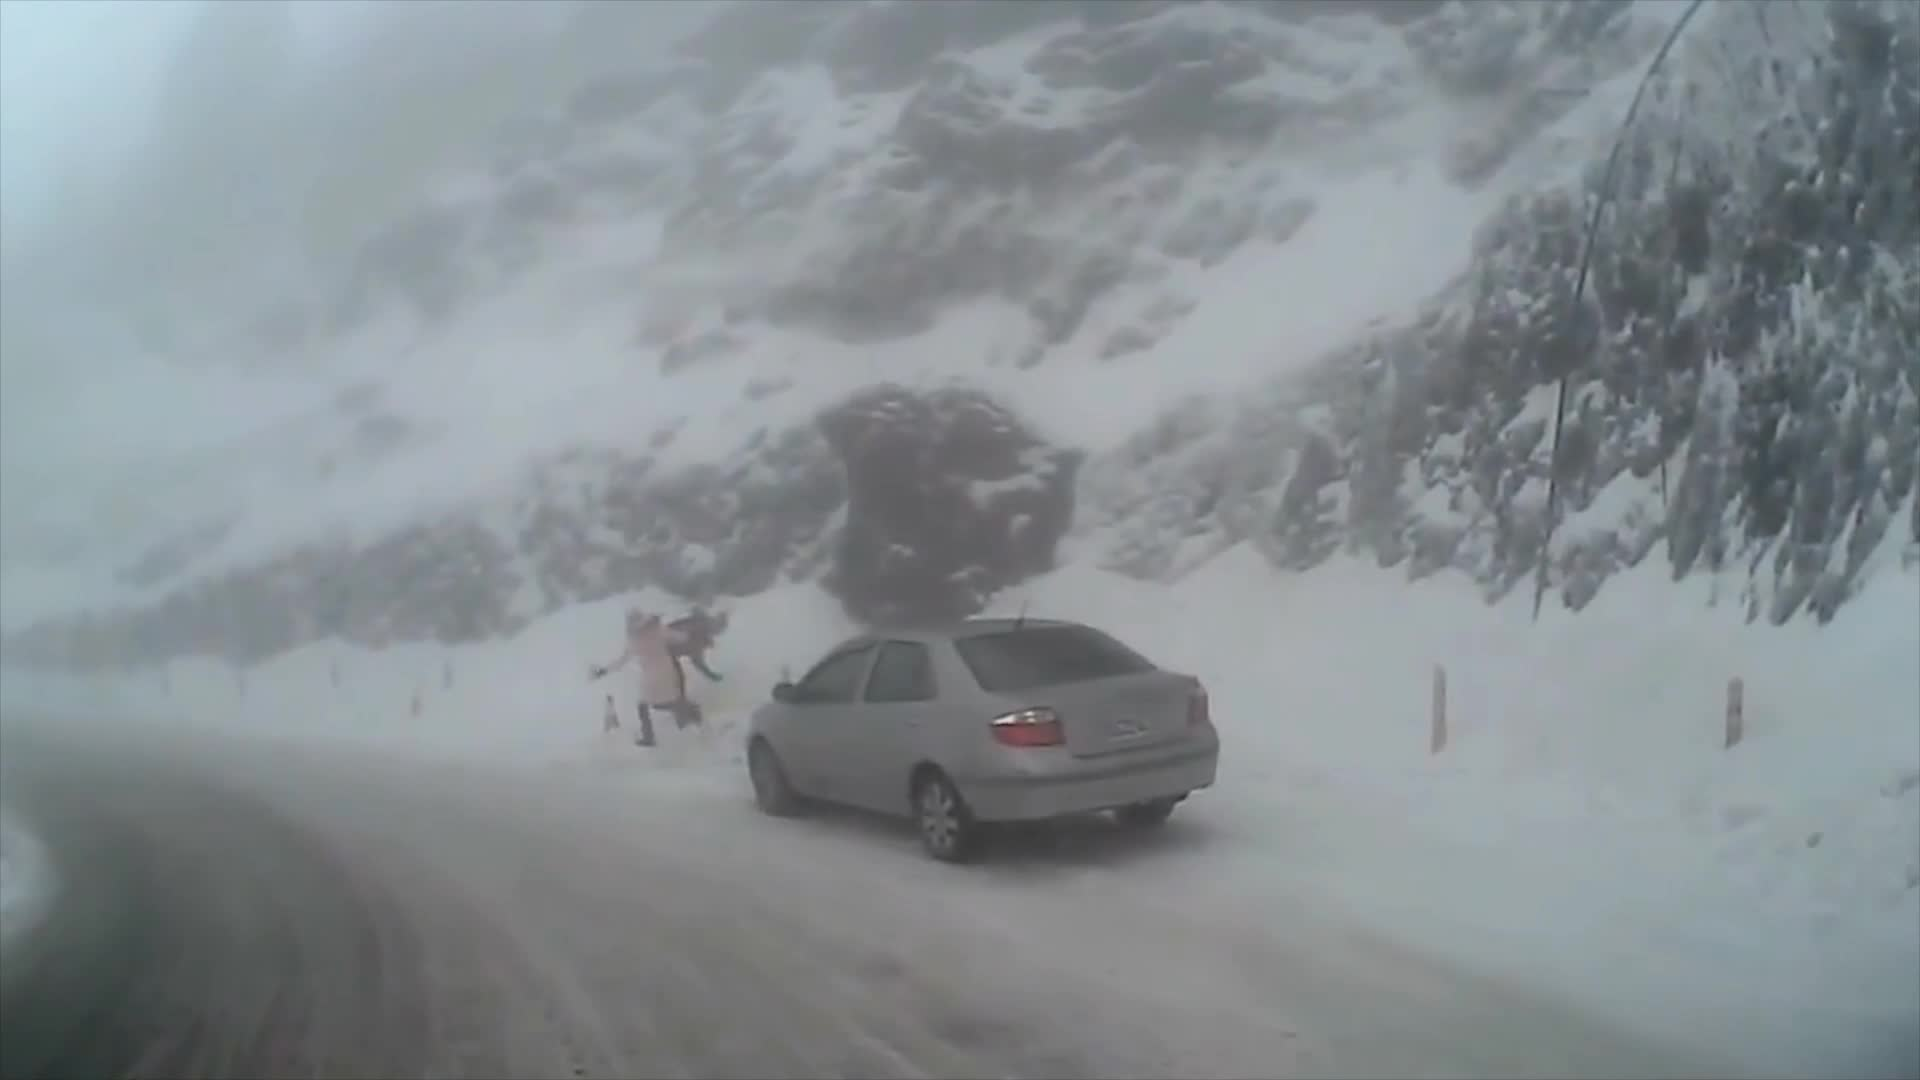pedestrian: (594, 610, 708, 749)
vehicle: (746, 615, 1220, 865)
